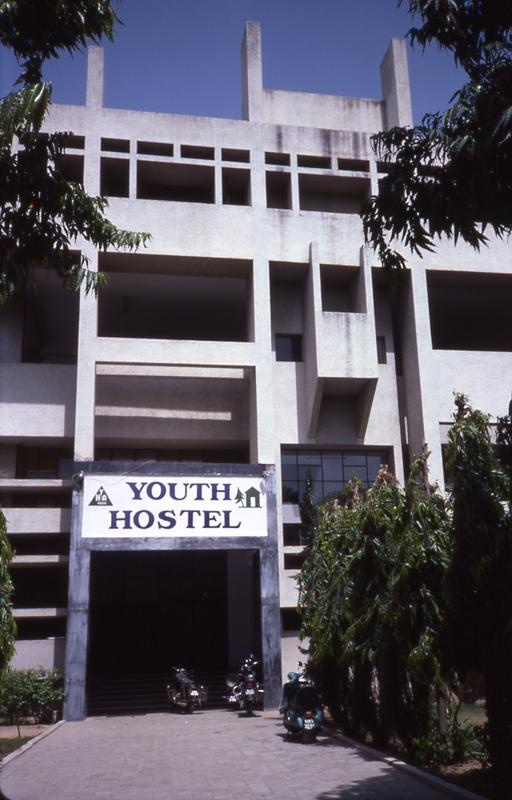non-vehicle: (273, 658, 326, 745), (227, 652, 265, 715), (164, 663, 209, 712)
